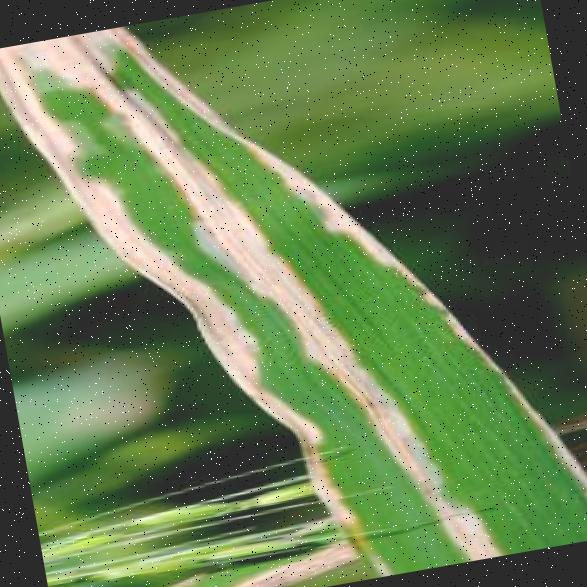Bacteria_Leaf_Blight: (38, 0, 355, 474)
